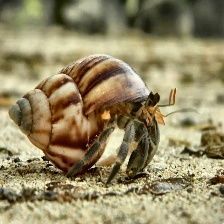crab: (58, 54, 151, 117)
